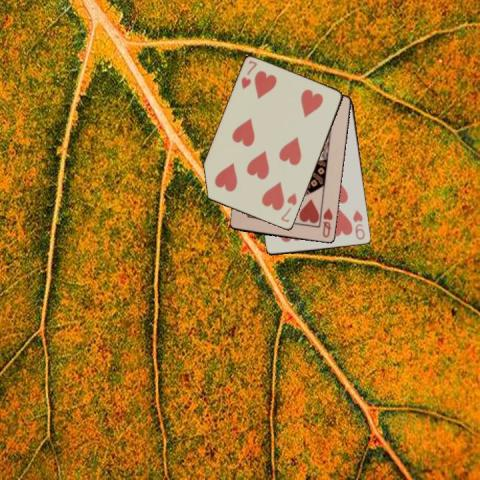7h: (278, 190, 299, 224), (238, 57, 259, 91)
9h: (350, 208, 367, 242)
Qh: (320, 206, 334, 240)
